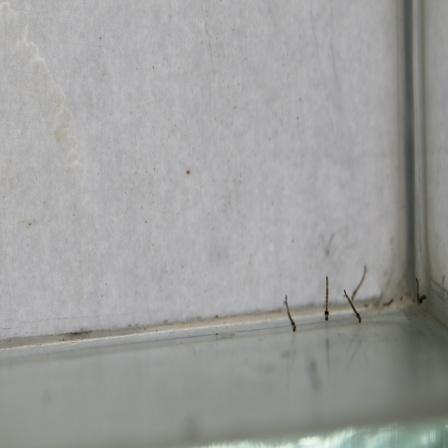Jentik-Nyamuk: (342, 262, 372, 326), (278, 292, 301, 337), (320, 273, 334, 326), (411, 273, 430, 308)
